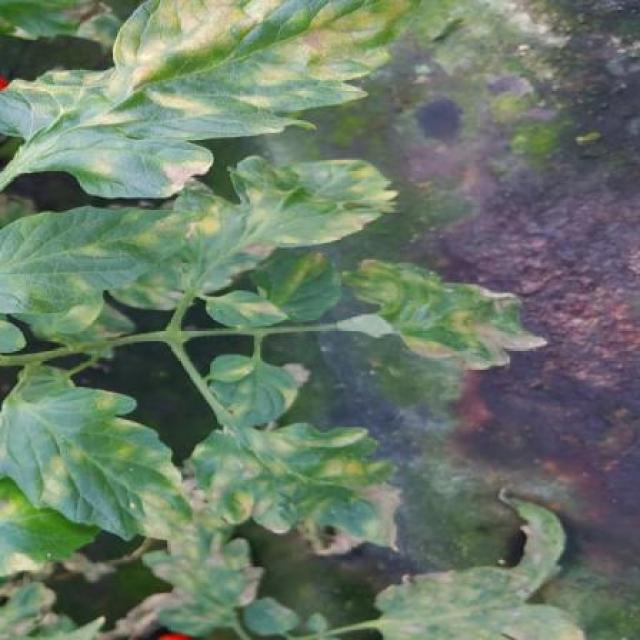Leaf Mold: (0, 0, 397, 199), (0, 363, 201, 543), (180, 421, 401, 553), (341, 256, 546, 371), (0, 204, 209, 316), (158, 155, 403, 249), (200, 286, 289, 335)
